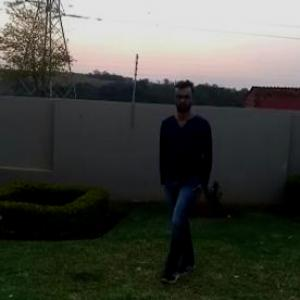follow: (156, 80, 221, 280)
